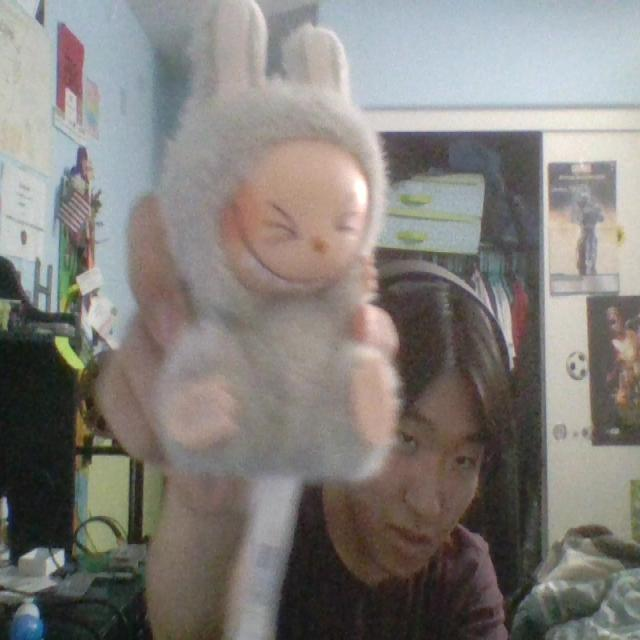labubu: (153, 0, 399, 481)
